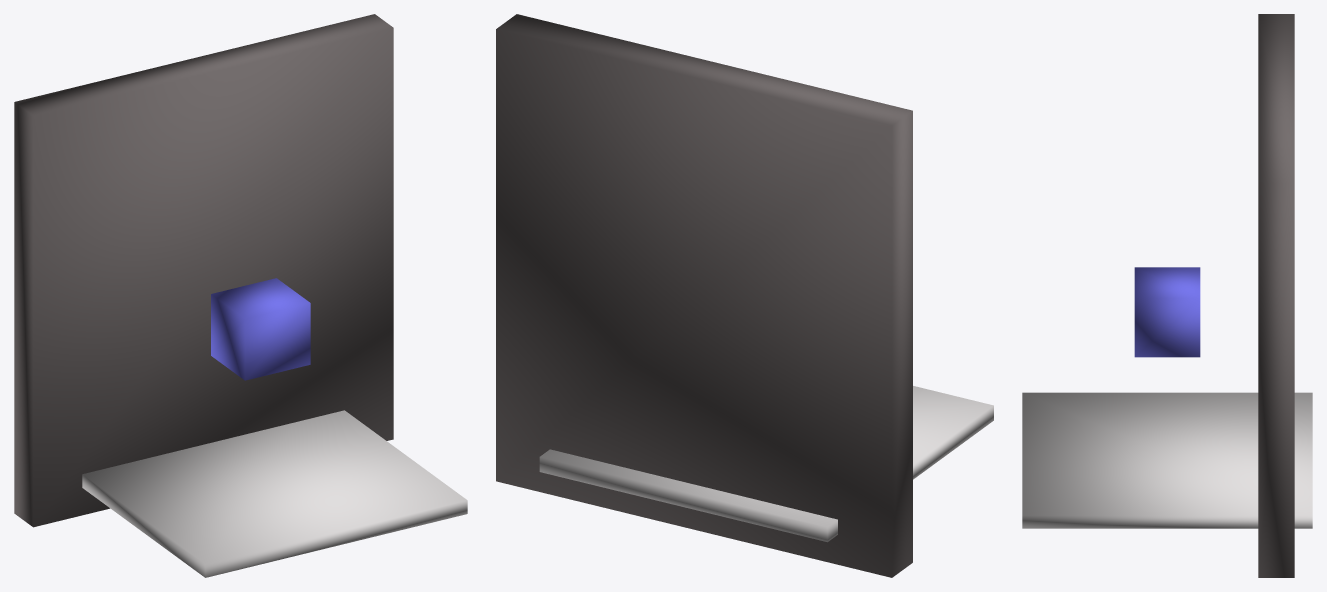
The model's file is 3d_printer.glb.
The picture shows the model from 3 angles, left to right: view 1: azimuth 30°, elevation 25°; view 2: azimuth 150°, elevation 25°; view 3: azimuth 270°, elevation 25°; orthographic projection. The views are drawn at different scales.
Visible parts, largest first — view 1: frame, bed, head; view 2: frame, bed; view 3: bed, frame, head.
Part boxes in pixels (x1,y1,x2,y2): frame: (14, 14, 393, 527); bed: (82, 410, 467, 577); head: (211, 278, 310, 380); frame: (496, 14, 912, 577); bed: (539, 386, 993, 542); bed: (1022, 392, 1312, 528); frame: (1258, 14, 1294, 577); head: (1134, 267, 1200, 357).
Size of the model in its own units: 1.1 by 1.2 by 0.8.
